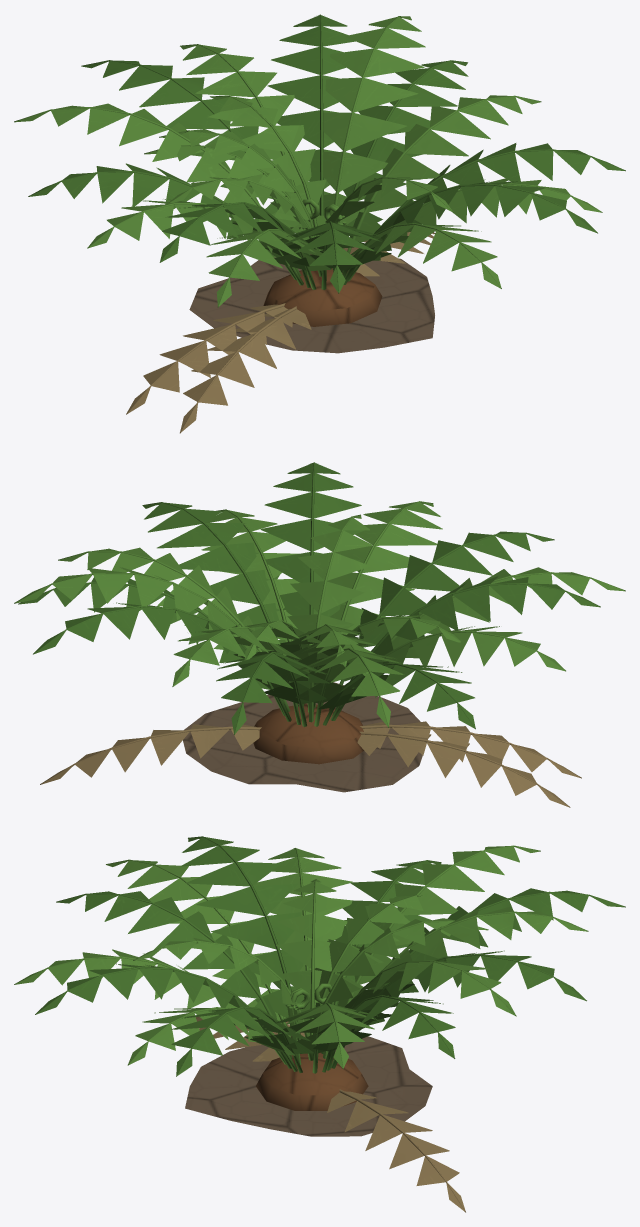
File: fern_clump_big.glb
The picture shows the model from 3 angles, top to bottom: view 1: azimuth 30°, elevation 25°; view 2: azimuth 150°, elevation 25°; view 3: azimuth 270°, elevation 25°; orthographic projection.
Visible parts, largest first — view 1: fern_clump_big; view 2: fern_clump_big; view 3: fern_clump_big.
Part boxes in pixels (box(x1,y1,x2,y2)): fern_clump_big: box(14, 14, 625, 433); fern_clump_big: box(14, 462, 625, 807); fern_clump_big: box(14, 836, 625, 1212).
Bounding box in the file's own units: 3.16 × 1.39 × 3.53.
5 materials, 5 textured.
